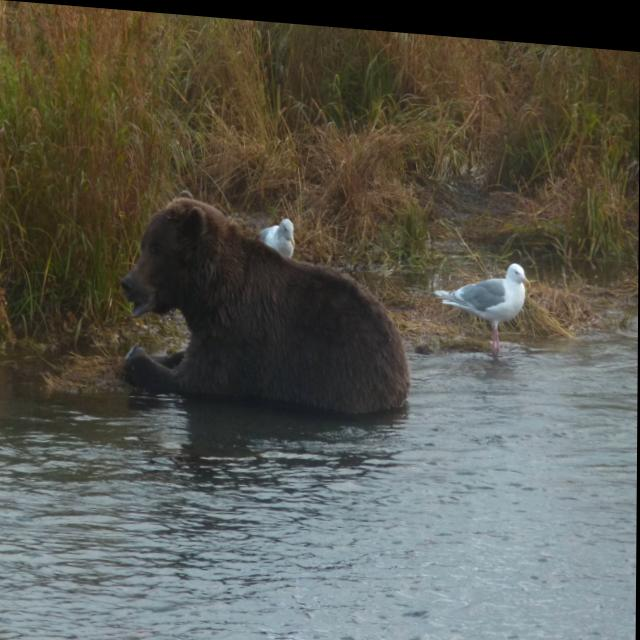bear face: (120, 181, 410, 411)
